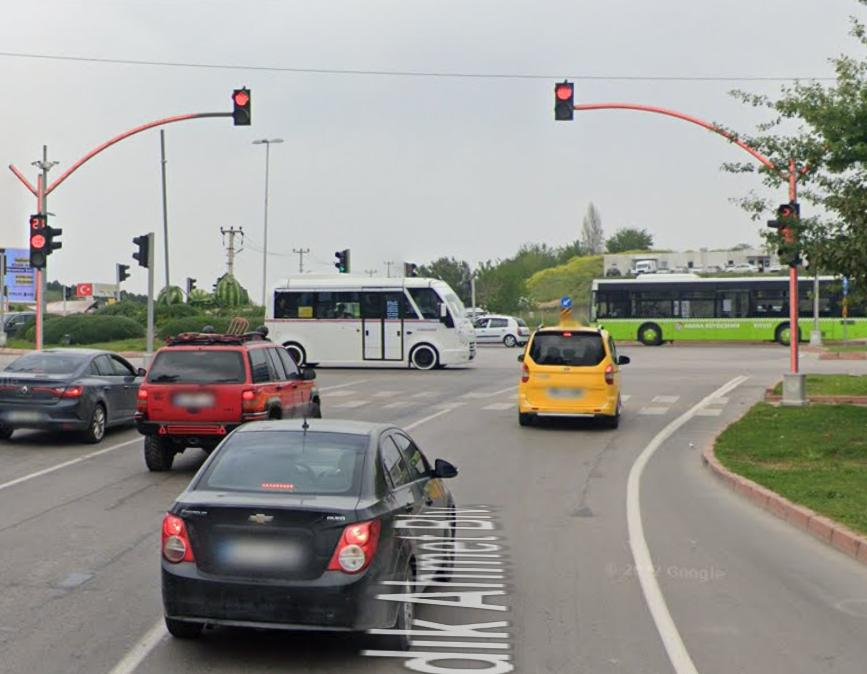redlight: (776, 203, 799, 261), (29, 214, 50, 269), (231, 86, 254, 126), (555, 83, 574, 118)
